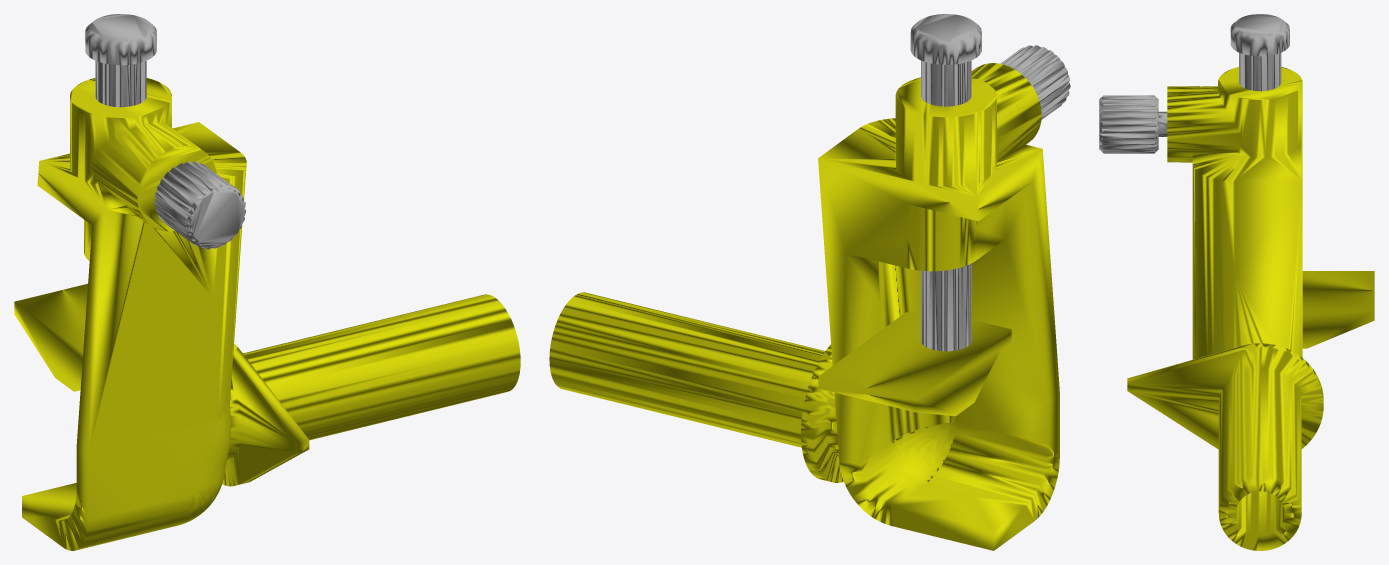
Rendered from condylar_parts_left.obj.
3 renders of one model, left to right at view 1: azimuth 30°, elevation 25°; view 2: azimuth 150°, elevation 25°; view 3: azimuth 270°, elevation 25°, orthographic. The views are drawn at different scales.
Bounding box in the file's own units: 50.6 × 53 × 32.5.
